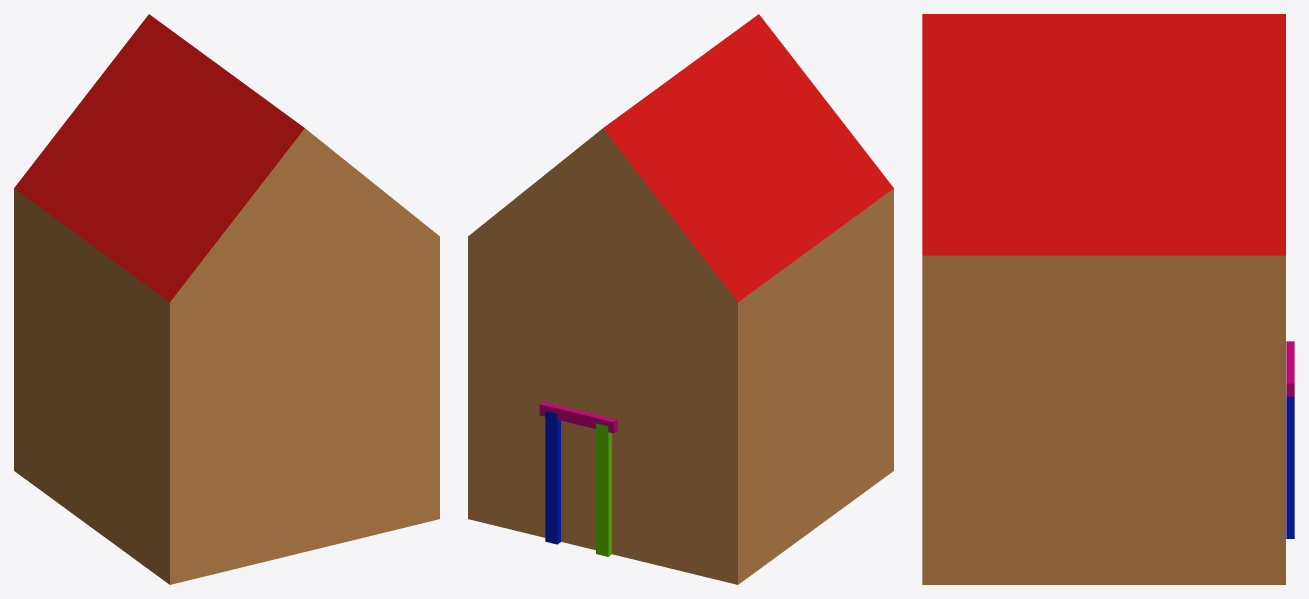
File: House_Test.fbx
3 views of the same model, side by side, from view 1: azimuth 30°, elevation 25°; view 2: azimuth 150°, elevation 25°; view 3: azimuth 270°, elevation 25° (orthographic). The views are drawn at different scales.
Visible parts, largest first — view 1: Cube; view 2: Cube, Cube.001, Cube.002, Cube.004; view 3: Cube, Cube.001, Cube.004.
Boxes of the visible parts, x1,y1,x2,y2 form: Cube: (14,14,439,584); Cube: (468,14,893,584); Cube.001: (545,411,560,544); Cube.002: (596,423,611,556); Cube.004: (539,401,617,433); Cube: (922,14,1285,584); Cube.001: (1286,396,1294,538); Cube.004: (1286,341,1294,396).
Size of the model in its own units: 200 by 300 by 205.
